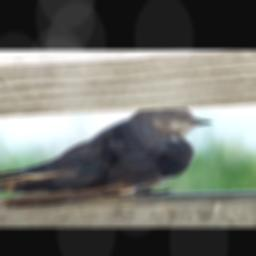Swallow: (0, 107, 213, 208)
